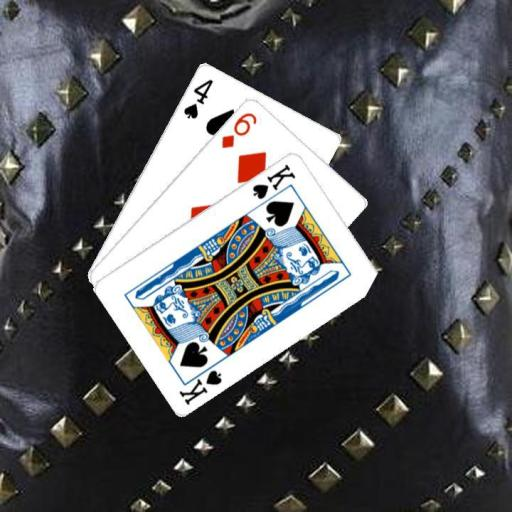4S: (180, 76, 215, 121)
6D: (218, 109, 259, 149)
KS: (176, 358, 224, 406), (249, 160, 297, 201)
